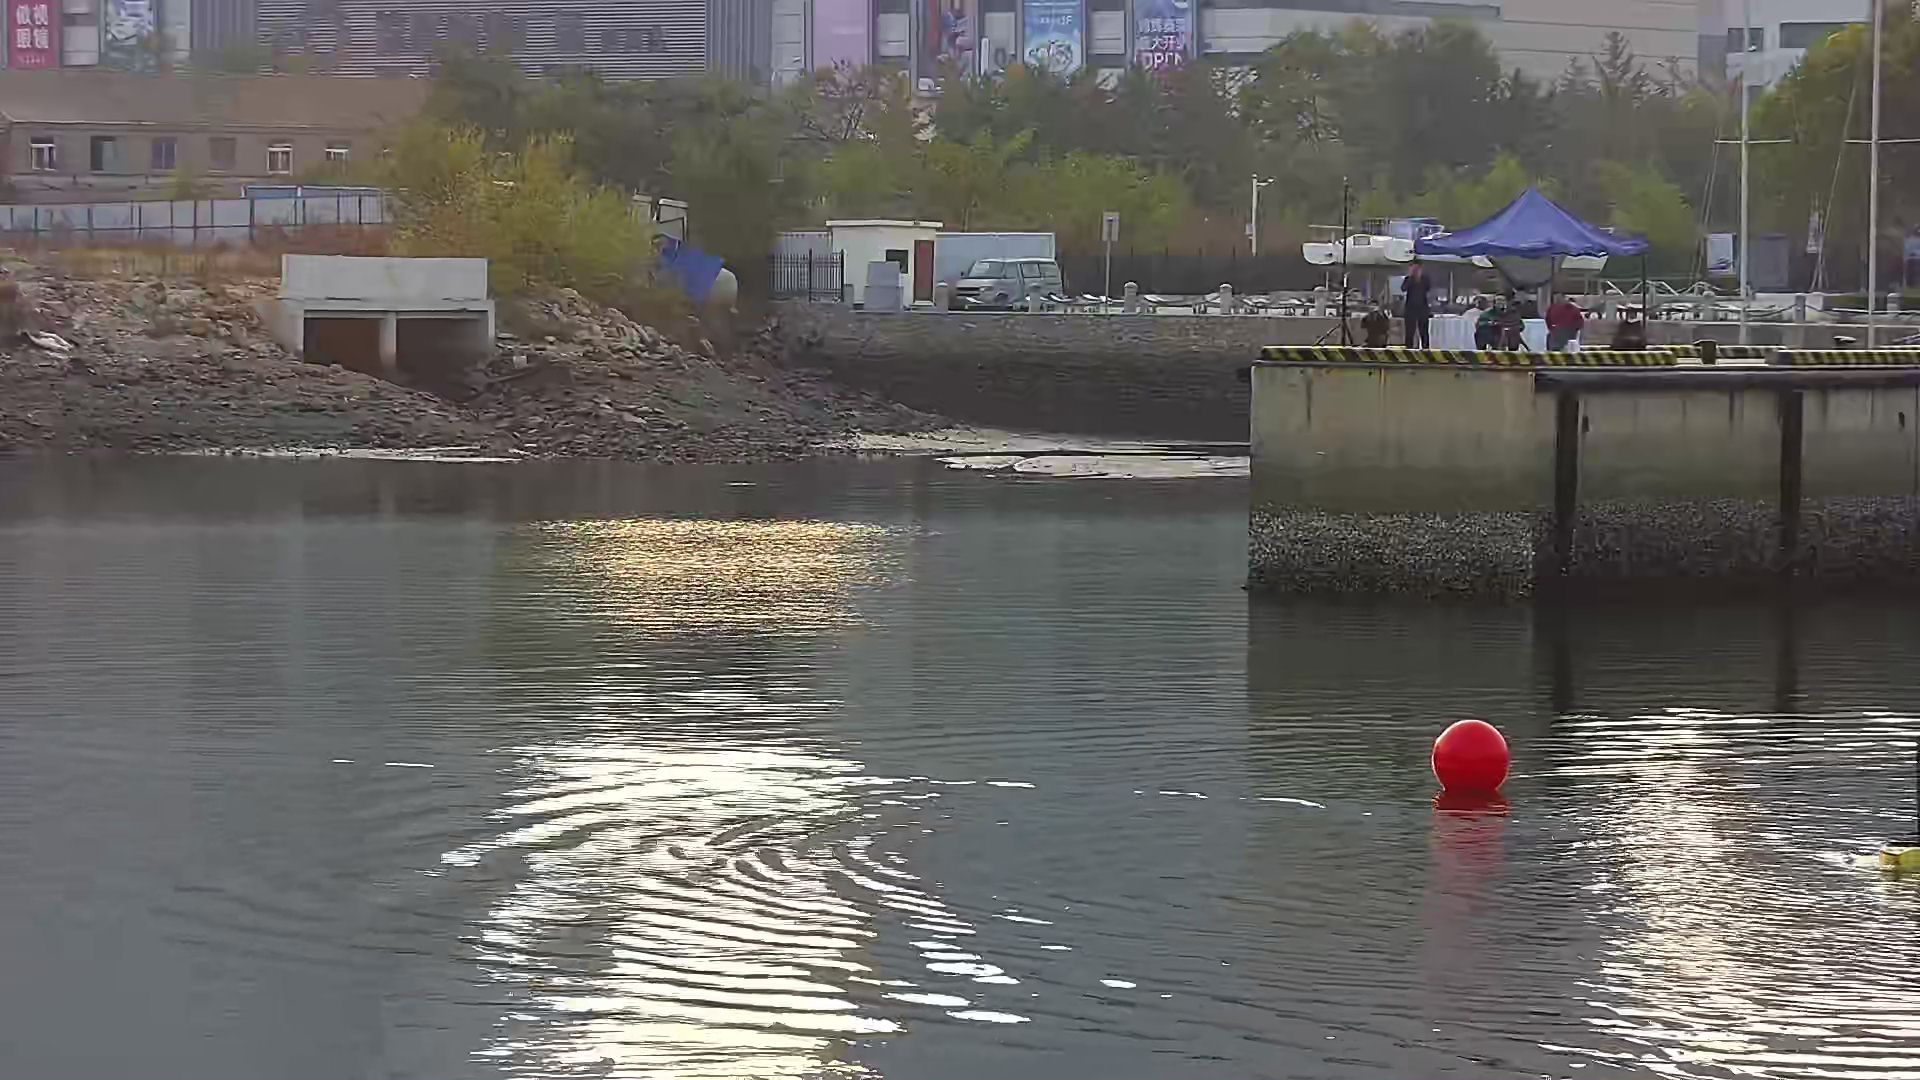ball: (1428, 716, 1513, 800)
